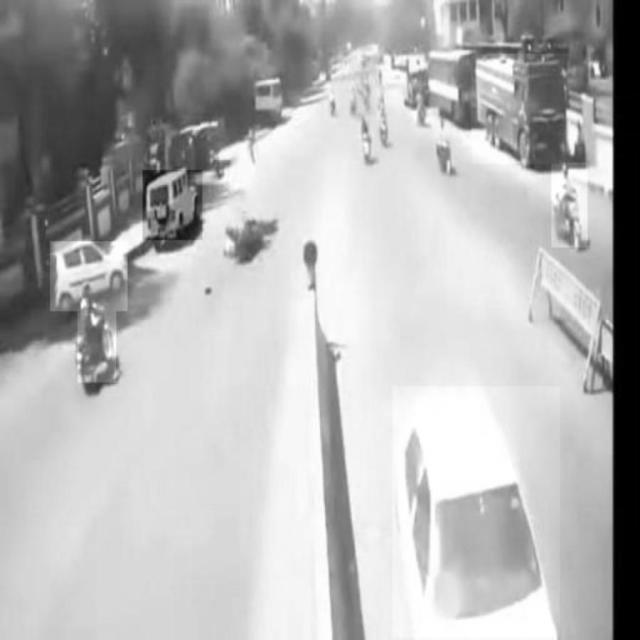vehicle: (393, 387, 560, 638), (472, 55, 565, 165), (50, 242, 128, 312), (143, 170, 203, 240), (77, 284, 115, 382), (552, 163, 588, 247)
